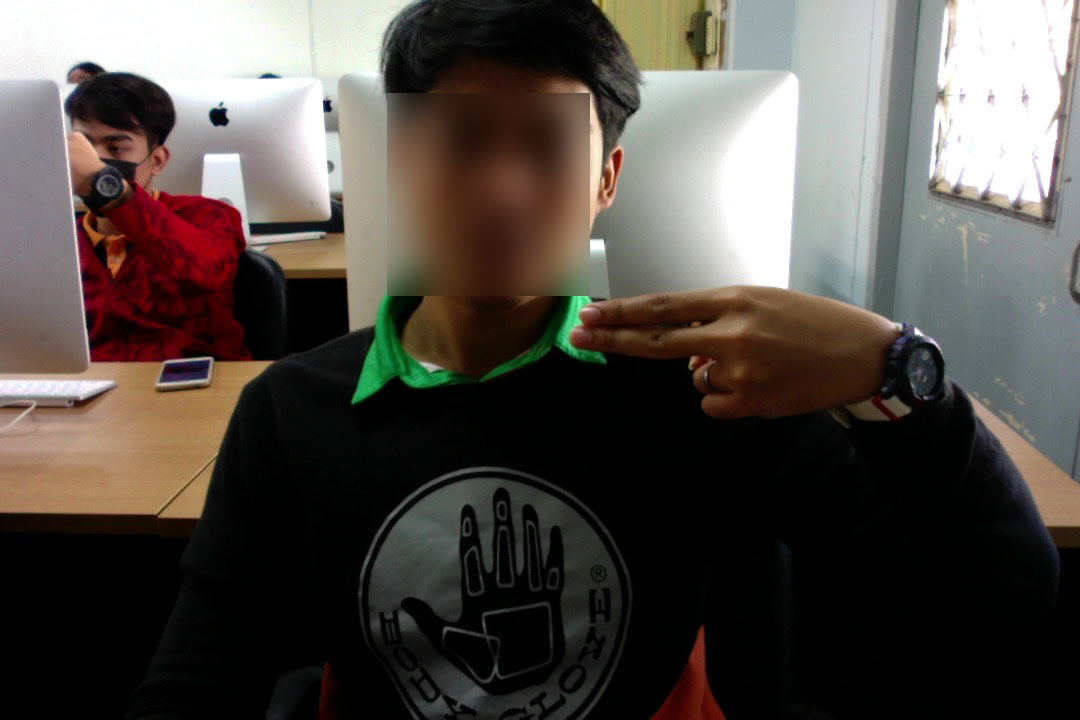hor: (549, 279, 970, 426)
